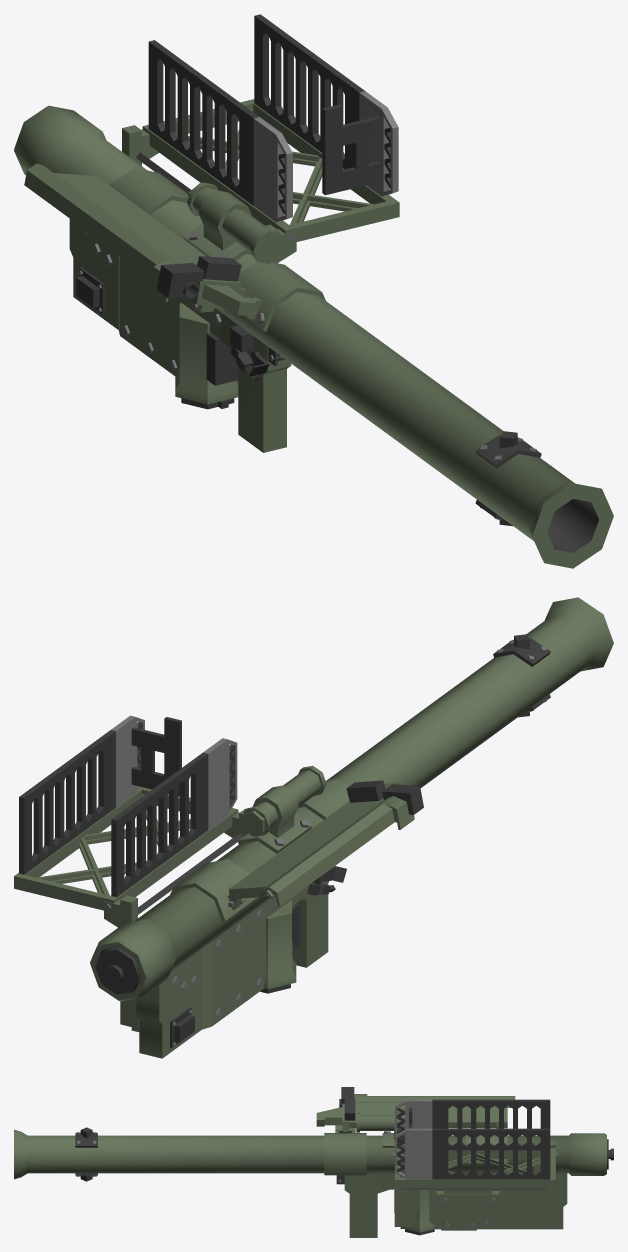
The model's file is stinger.glb.
3 renders of one model, top to bottom at view 1: azimuth 30°, elevation 25°; view 2: azimuth 150°, elevation 25°; view 3: azimuth 270°, elevation 25°, orthographic. The views are drawn at different scales.
Parts seen in each view (by area): view 1: O_stinger__C675, O_stinger__C444, O_stinger__C777; view 2: O_stinger__C675, O_stinger__C444, O_stinger__C777; view 3: O_stinger__C675, O_stinger__C444, O_stinger__C777.
Part boxes in pixels (<box>): O_stinger__C675: <box>14,99,613,568</box>; O_stinger__C444: <box>76,14,598,552</box>; O_stinger__C777: <box>79,91,536,520</box>; O_stinger__C675: <box>14,597,613,1058</box>; O_stinger__C444: <box>19,634,550,1047</box>; O_stinger__C777: <box>104,639,546,1046</box>; O_stinger__C675: <box>14,1094,606,1237</box>; O_stinger__C444: <box>75,1087,613,1235</box>; O_stinger__C777: <box>76,1099,557,1229</box>.
Bounding box in the file's own units: 1.29 × 1.21 × 4.26.
